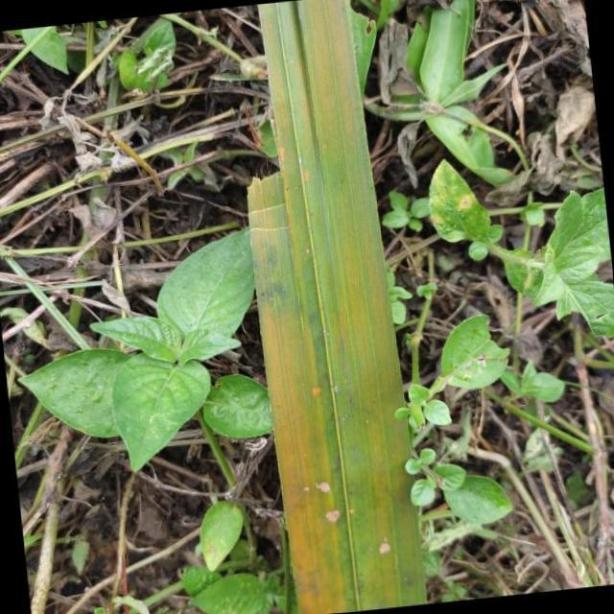Megnesium: (244, 0, 424, 614)
